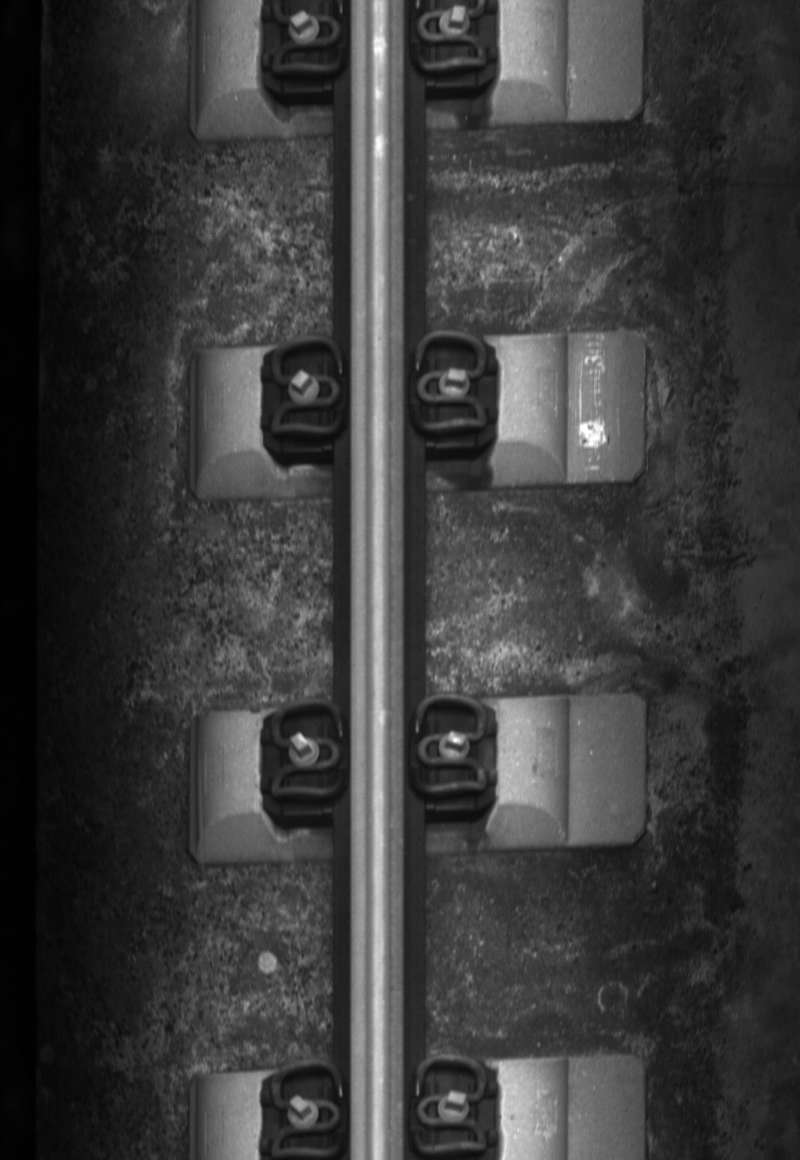l_faster: (262, 695, 348, 808), (264, 330, 347, 444), (261, 1060, 344, 1158)
r_faster: (407, 1044, 494, 1158), (408, 688, 492, 804), (409, 328, 491, 439)
